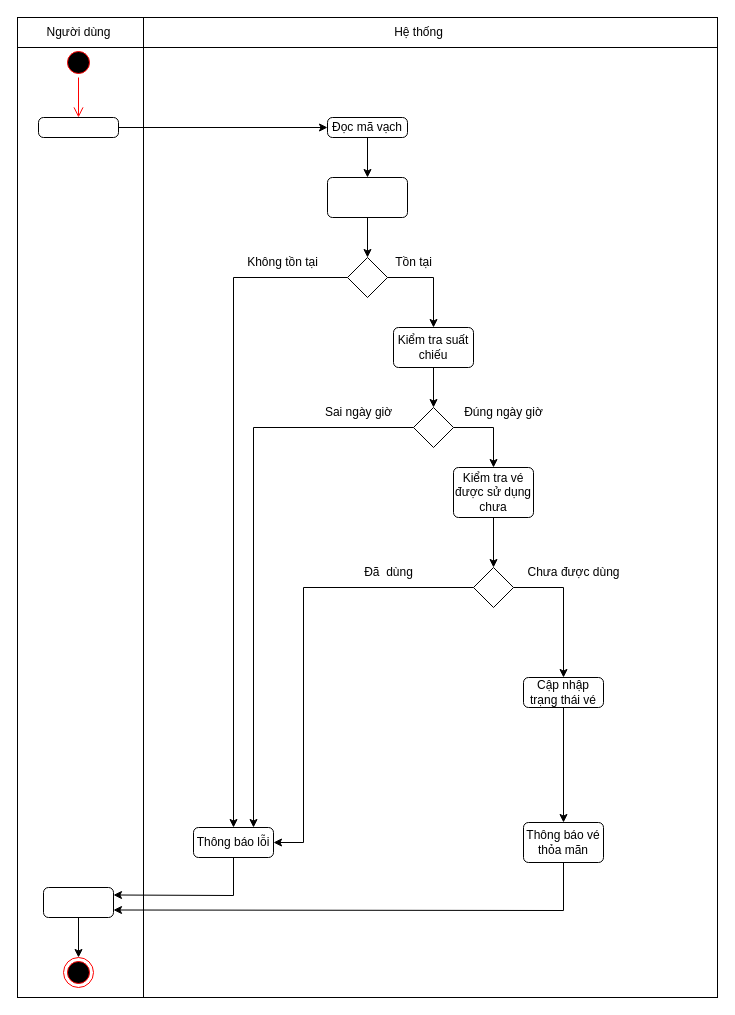
This 735x1015 diagram has some shape labels left out. The box of each missing label's shape, as (x1, y1, x2, y2) in pixels:
Kiểm tra vé tồn tại: (326, 176, 408, 218)
Xác nhận: (42, 886, 114, 918)
Đưa vé: (38, 116, 118, 138)
